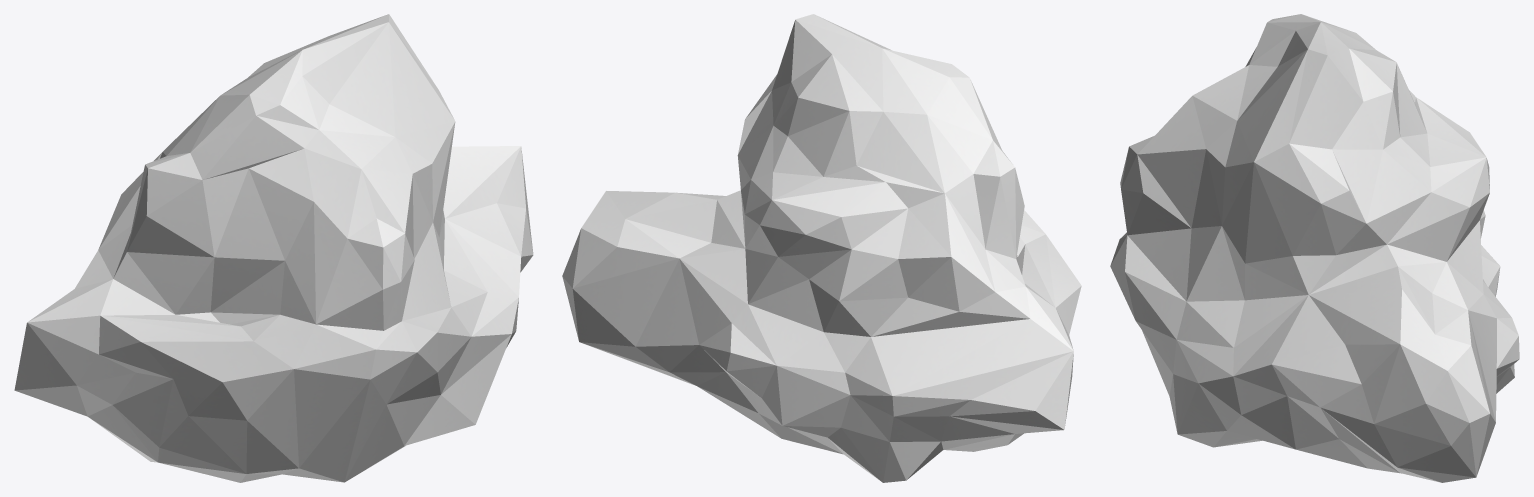
The model's file is Cloud_2.fbx.
3 renders of one model, left to right at view 1: azimuth 30°, elevation 25°; view 2: azimuth 150°, elevation 25°; view 3: azimuth 270°, elevation 25°, orthographic. The views are drawn at different scales.
Parts seen in each view (by area): view 1: Group42122; view 2: Group42122; view 3: Group42122.
Boxes of the visible parts, <box> form: Group42122: <box>14,14,533,482</box>; Group42122: <box>562,14,1081,482</box>; Group42122: <box>1110,14,1519,482</box>.
Bounding box in the file's own units: 5247 × 4044 × 3521.
